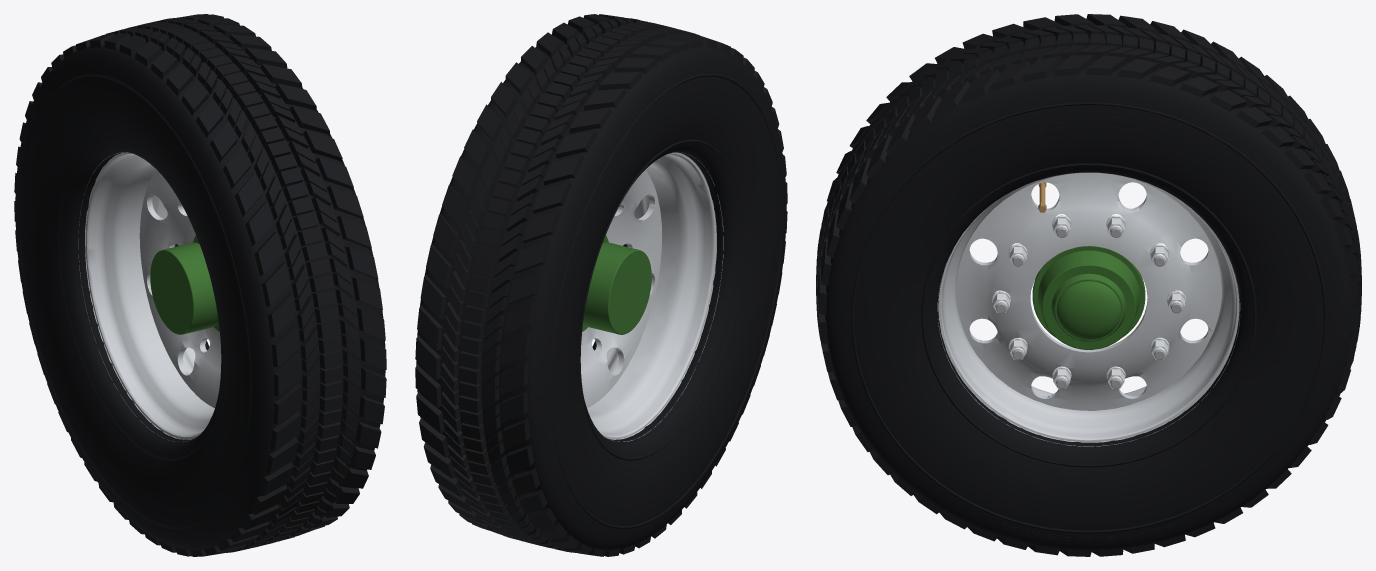
Rendered from wheel-low.glb.
3 views of the same model, side by side, from view 1: azimuth 30°, elevation 25°; view 2: azimuth 150°, elevation 25°; view 3: azimuth 270°, elevation 25° (orthographic). The views are drawn at different scales.
Parts seen in each view (by area): view 1: tyre, rim, hub; view 2: tyre, rim, hub; view 3: tyre, rim, hub, lug_nuts.
Boxes of the visible parts, <box> form: tyre: <box>14,14,386,556</box>; rim: <box>78,152,221,441</box>; hub: <box>150,235,219,334</box>; tyre: <box>415,14,787,556</box>; rim: <box>580,152,723,441</box>; hub: <box>582,235,651,334</box>; tyre: <box>816,14,1361,556</box>; rim: <box>937,172,1240,446</box>; hub: <box>1032,246,1145,349</box>; lug_nuts: <box>991,215,1186,388</box>.
Bounding box in the file's own units: 0.2998 × 1.04 × 1.04.
